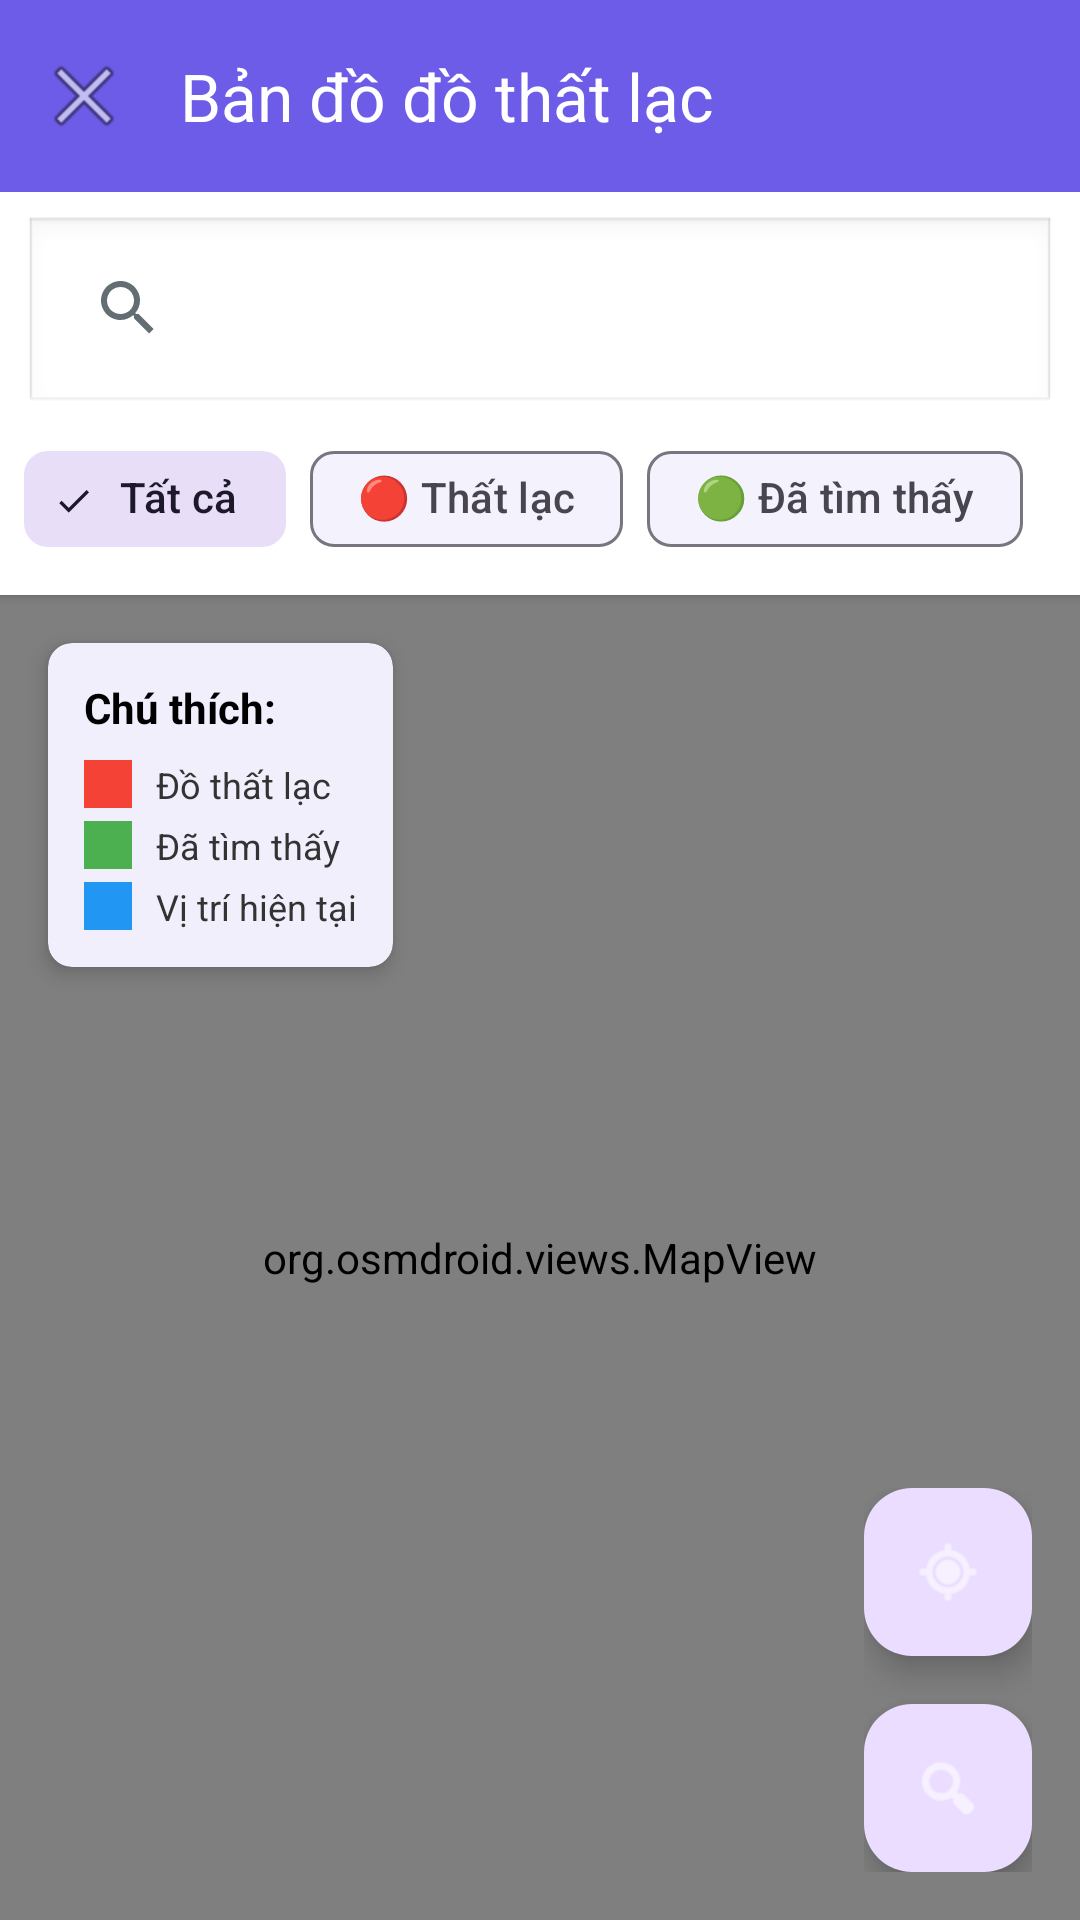

Icon click points for this 1080 × 1920 phone screenshot, format point (x, y):
Vị trí của tôi: point (948, 1572)
